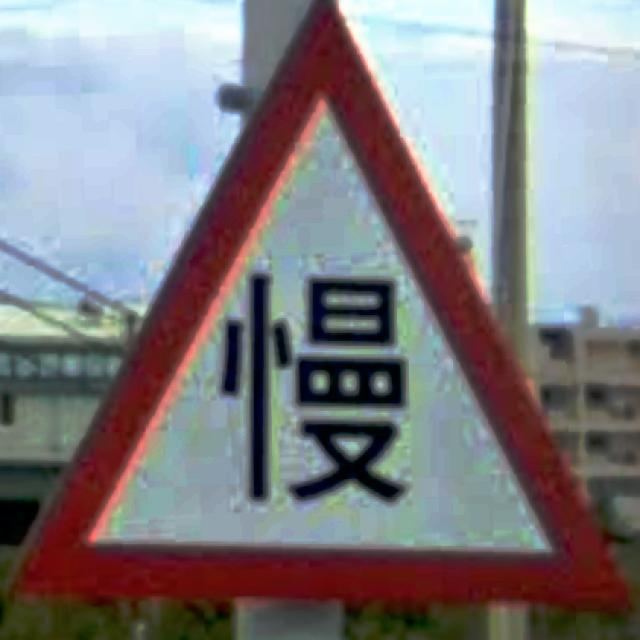slow: (12, 0, 631, 610)
